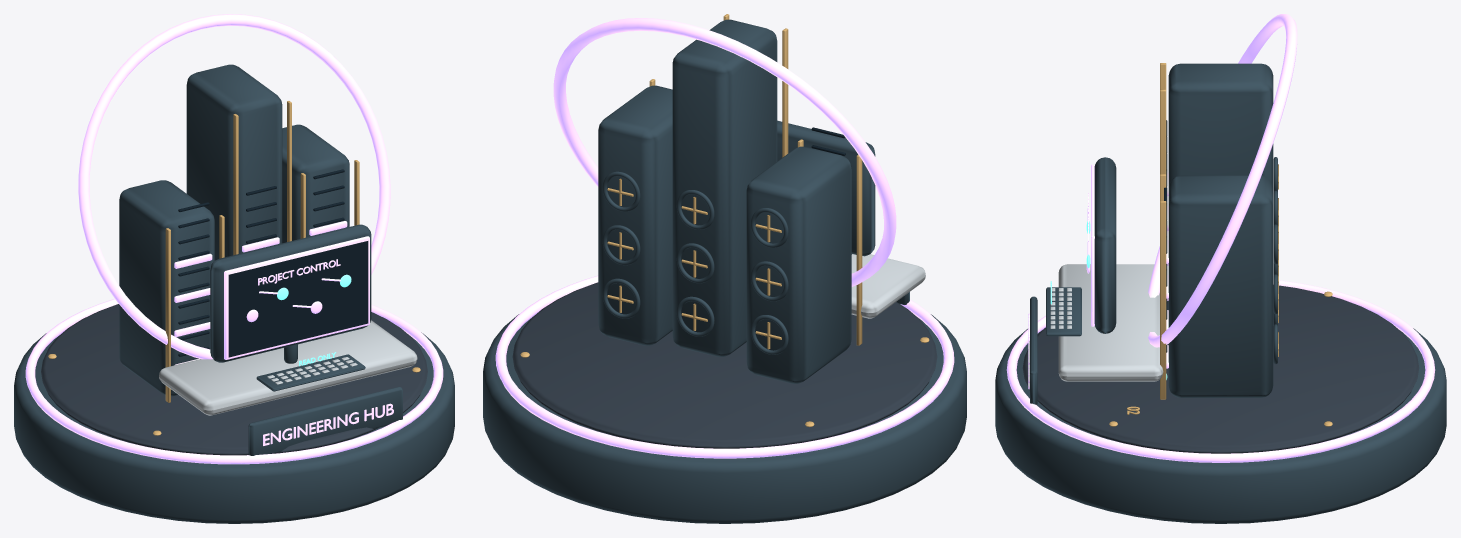
Rendered from hub.glb.
3 renders of one model, left to right at view 1: azimuth 30°, elevation 25°; view 2: azimuth 150°, elevation 25°; view 3: azimuth 270°, elevation 25°, orthographic. The views are drawn at different scales.
Visible parts, largest first — view 1: Station_hub_Midnight titanium, hub_top, Station_hub_Visor obsidian, Station_hub_Iris, Station_hub_Porcelain, Orbit_hub, Station_hub_Champagne; view 2: Station_hub_Midnight titanium, hub_top, Orbit_hub, Station_hub_Iris, Station_hub_Champagne, Station_hub_Porcelain; view 3: Station_hub_Midnight titanium, hub_top, Station_hub_Porcelain, Station_hub_Iris, Orbit_hub, Station_hub_Champagne.
Boxes of the visible parts, <box> form: Station_hub_Midnight titanium: <box>14,64,454,523</box>; hub_top: <box>41,304,427,455</box>; Station_hub_Visor obsidian: <box>178,169,368,357</box>; Station_hub_Iris: <box>25,221,443,464</box>; Station_hub_Porcelain: <box>159,320,417,415</box>; Orbit_hub: <box>78,14,390,359</box>; Station_hub_Champagne: <box>48,101,420,435</box>; Station_hub_Midnight titanium: <box>483,19,966,523</box>; hub_top: <box>512,282,937,448</box>; Orbit_hub: <box>553,18,896,286</box>; Station_hub_Iris: <box>495,146,954,458</box>; Station_hub_Champagne: <box>520,14,929,427</box>; Station_hub_Porcelain: <box>851,254,925,318</box>; Station_hub_Midnight titanium: <box>995,63,1446,523</box>; hub_top: <box>1022,285,1419,453</box>; Station_hub_Porcelain: <box>1050,264,1163,381</box>; Station_hub_Iris: <box>1006,164,1435,462</box>; Orbit_hub: <box>1148,14,1297,347</box>; Station_hub_Champagne: <box>1109,63,1332,426</box>.
Bounding box in the file's own units: 2.16 × 2.11 × 2.16.
